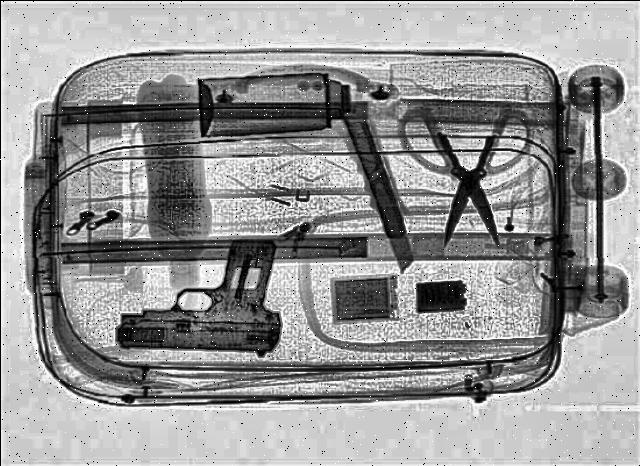Gun: (109, 237, 283, 353)
Knife: (390, 103, 536, 249)
